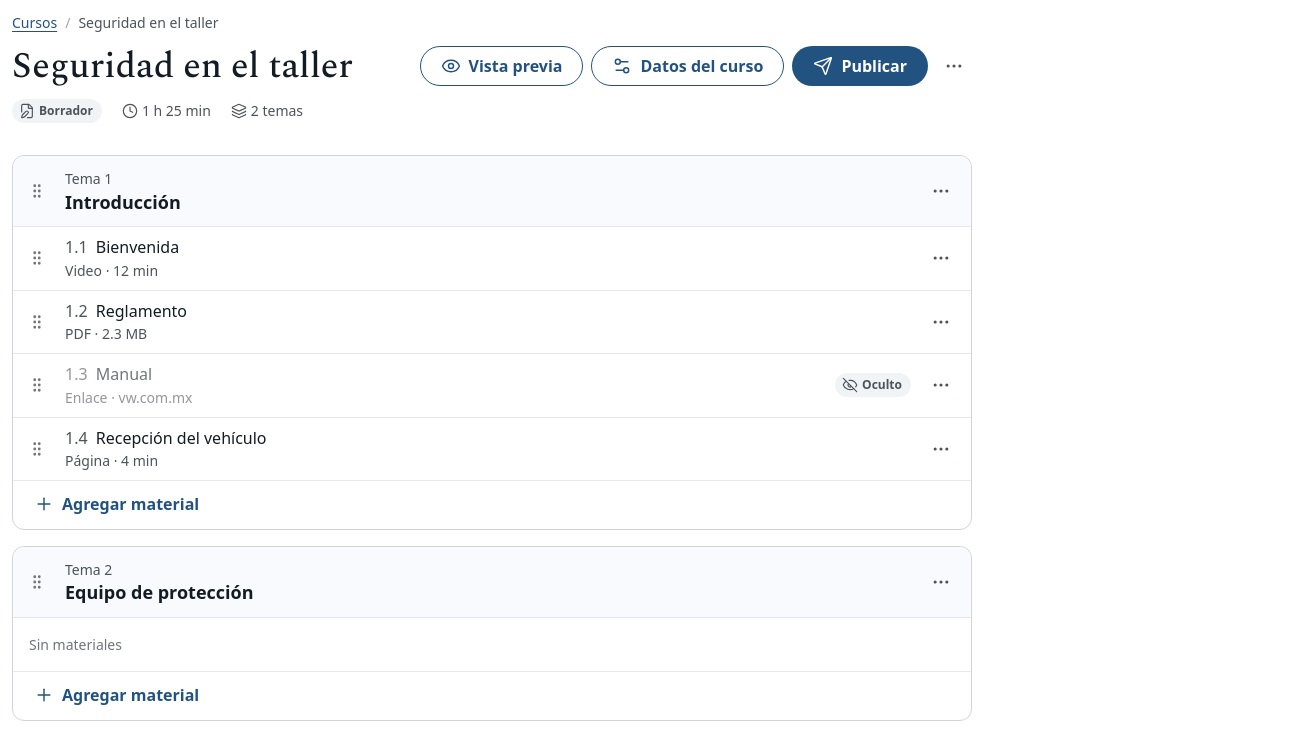
it: Editor de contenido del curso › ciclo de vida (HU-17) › si falta contenido muestra el motivo de la API
The width and height of the screenshot is (1292, 732).
Step 1. Click the button "Publicar" → [860, 66], box [792,46,928,86]
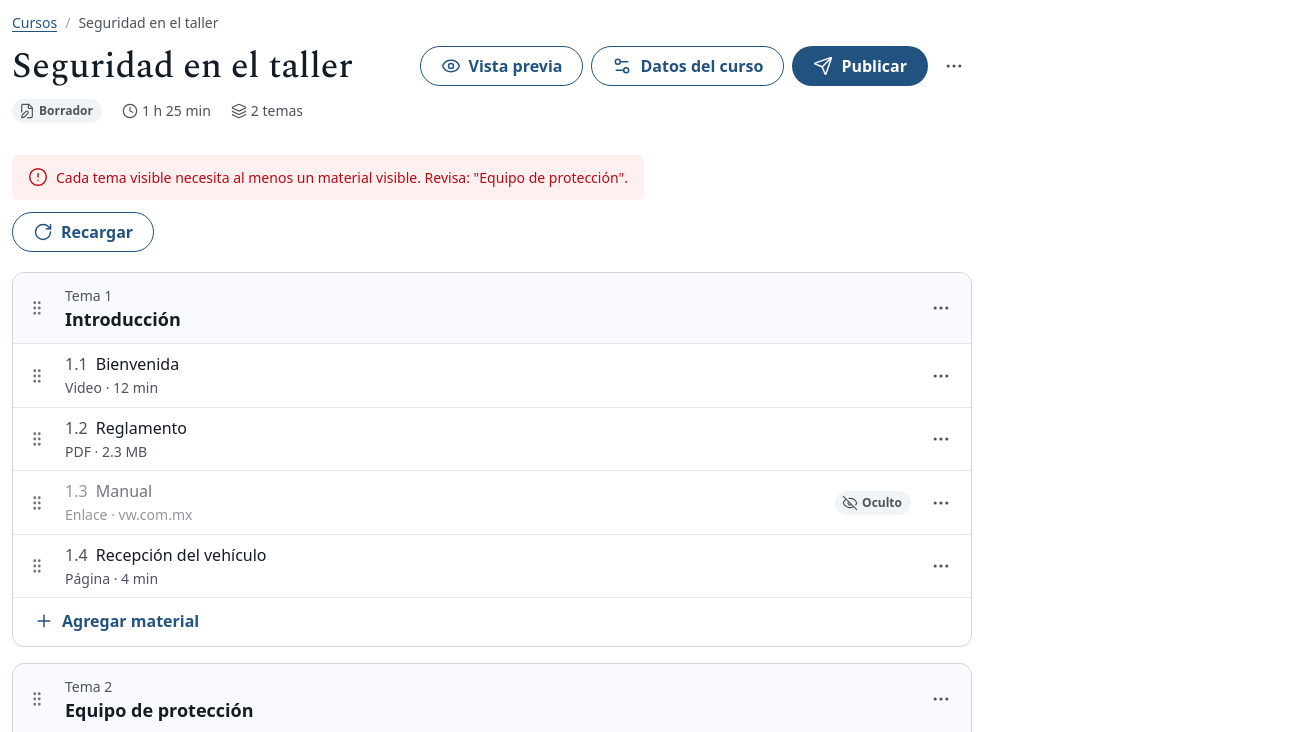
Result: the text "Revisa: \"Equipo de protección\"" is shown at [56,168,628,187]
